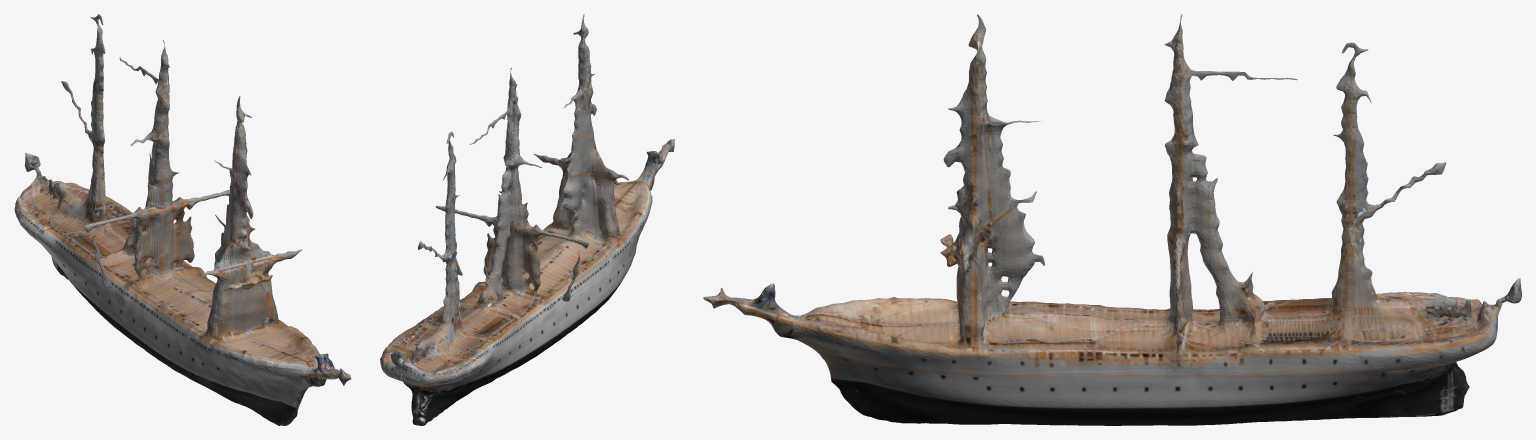
Rendered from Eagle Steamship - a_realistic_three_masted_sailing_ship_with_intricate_rigging_and_sails_the_ship_s_hull_is_painted.glb.
3 views of the same model, side by side, from view 1: azimuth 30°, elevation 25°; view 2: azimuth 150°, elevation 25°; view 3: azimuth 270°, elevation 25° (orthographic). The views are drawn at different scales.
Visible parts, largest first — view 1: geometry_0; view 2: geometry_0; view 3: geometry_0.
Part boxes in pixels (x1,y1,x2,y2): geometry_0: (14,14,351,425); geometry_0: (380,14,674,425); geometry_0: (703,14,1521,425).
Size of the model in its own units: 0.2962 by 0.5352 by 0.9764.
Materials: 1 (1 with a texture image).
